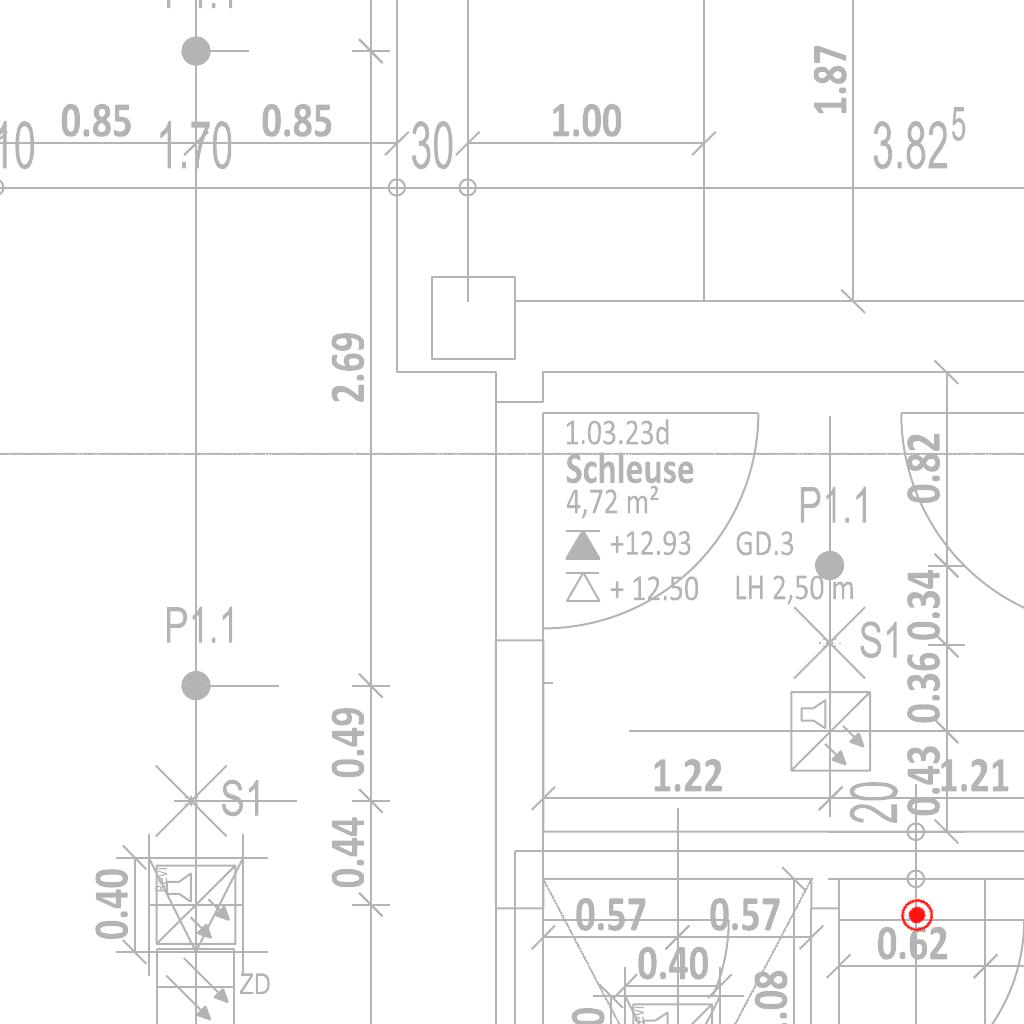Taster: (893, 892, 940, 939)
